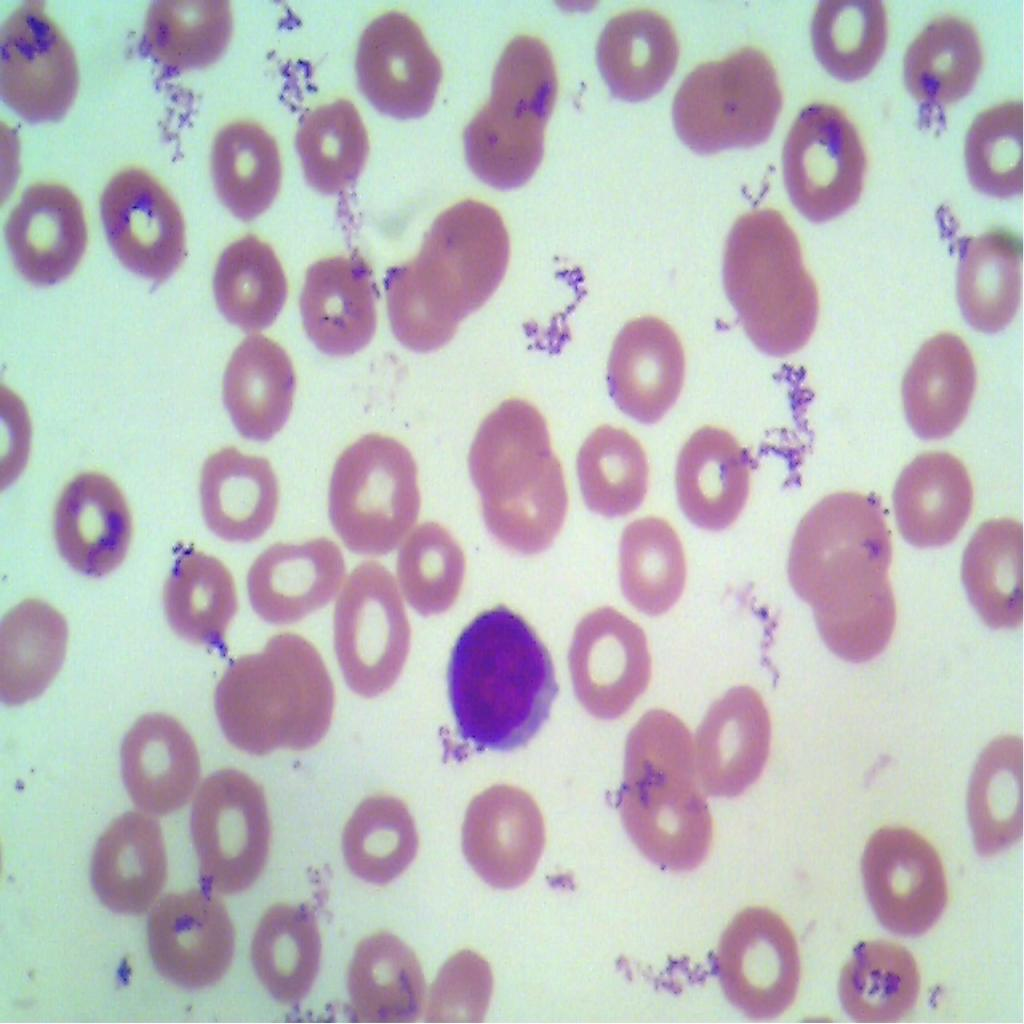Eritrosit: (319, 421, 428, 562), (95, 150, 198, 296), (0, 588, 96, 724), (589, 4, 695, 127), (853, 815, 950, 944), (184, 765, 278, 898), (0, 174, 96, 304), (616, 768, 722, 885), (291, 97, 395, 216), (783, 104, 878, 234), (788, 475, 878, 611), (0, 6, 94, 134), (261, 630, 355, 758), (50, 467, 146, 592), (460, 774, 566, 886), (734, 261, 846, 367), (710, 894, 801, 1023), (151, 538, 249, 655), (562, 600, 659, 717), (335, 558, 416, 695), (602, 305, 692, 426), (86, 799, 173, 924), (826, 920, 930, 1023), (943, 710, 1023, 842), (889, 322, 978, 439), (668, 418, 755, 536), (708, 31, 786, 162), (214, 337, 306, 447), (422, 212, 518, 315), (646, 48, 735, 159), (118, 714, 204, 828), (353, 14, 450, 115), (611, 701, 699, 812), (300, 252, 386, 365), (213, 108, 290, 234), (191, 434, 281, 541), (486, 452, 572, 562), (244, 890, 329, 1000), (239, 535, 346, 622), (150, 889, 238, 994), (899, 15, 982, 125), (886, 452, 969, 561), (336, 787, 418, 897), (956, 516, 1023, 646), (613, 511, 690, 624), (716, 198, 791, 314), (130, 0, 236, 82), (809, 575, 898, 672), (343, 918, 424, 1023), (948, 218, 1023, 330), (471, 381, 542, 498), (392, 511, 474, 612), (419, 938, 513, 1023), (214, 647, 290, 752), (459, 90, 541, 186), (801, 0, 889, 89), (573, 426, 648, 524), (696, 702, 778, 791), (388, 251, 458, 355), (956, 91, 1023, 197), (218, 237, 296, 327), (491, 37, 566, 127)
Limfoblast: (451, 608, 562, 758)
